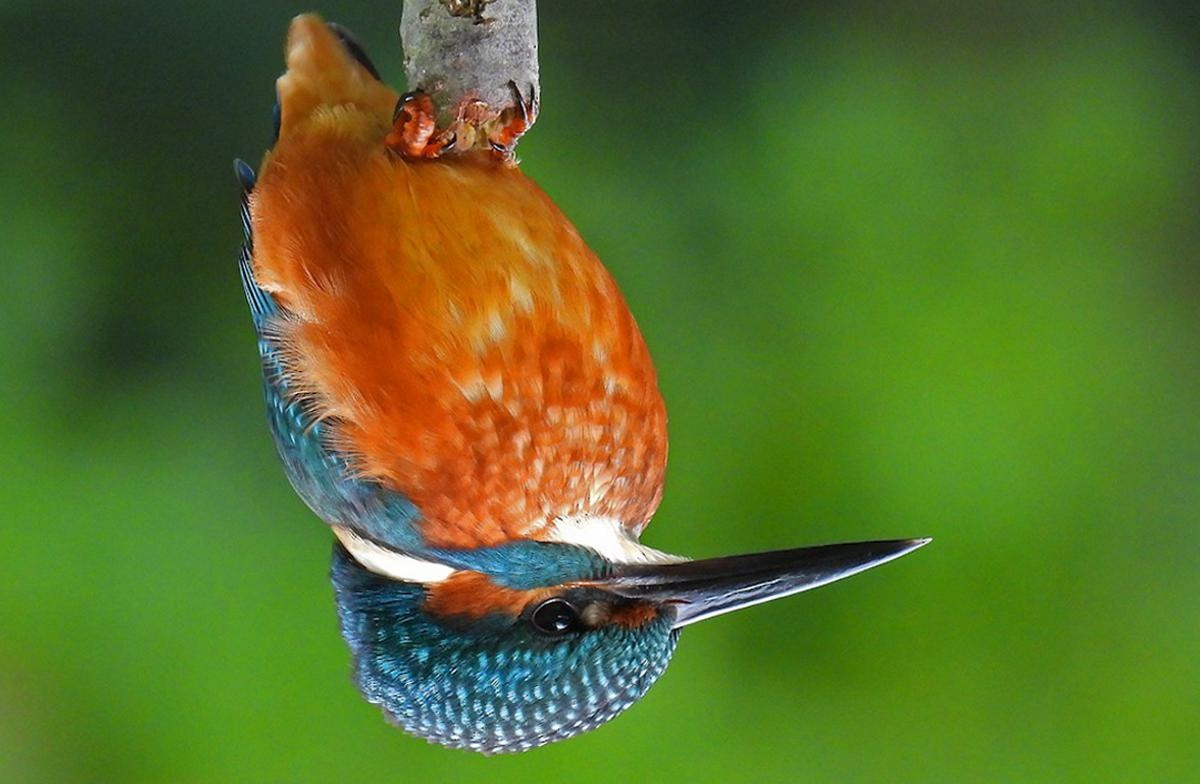kingfisher: (187, 16, 953, 768)
